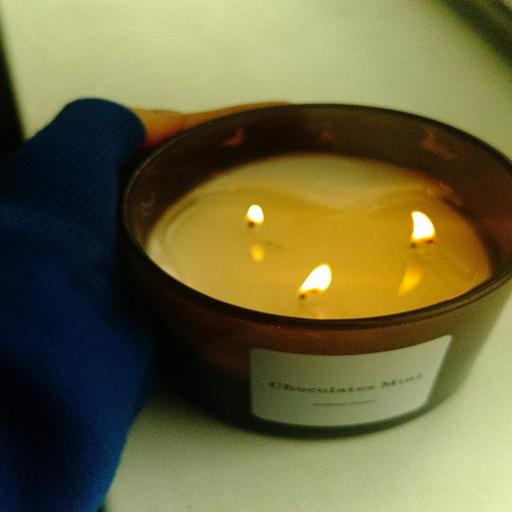candlelight: (108, 94, 512, 444)
